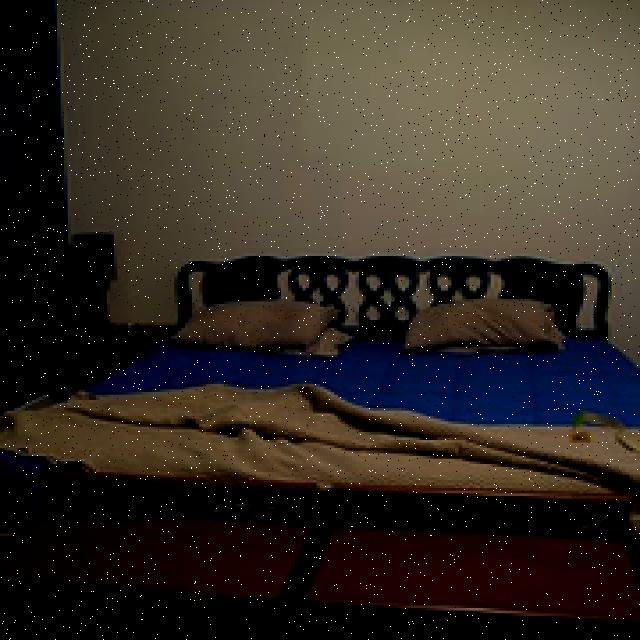bed: (0, 284, 640, 516)
